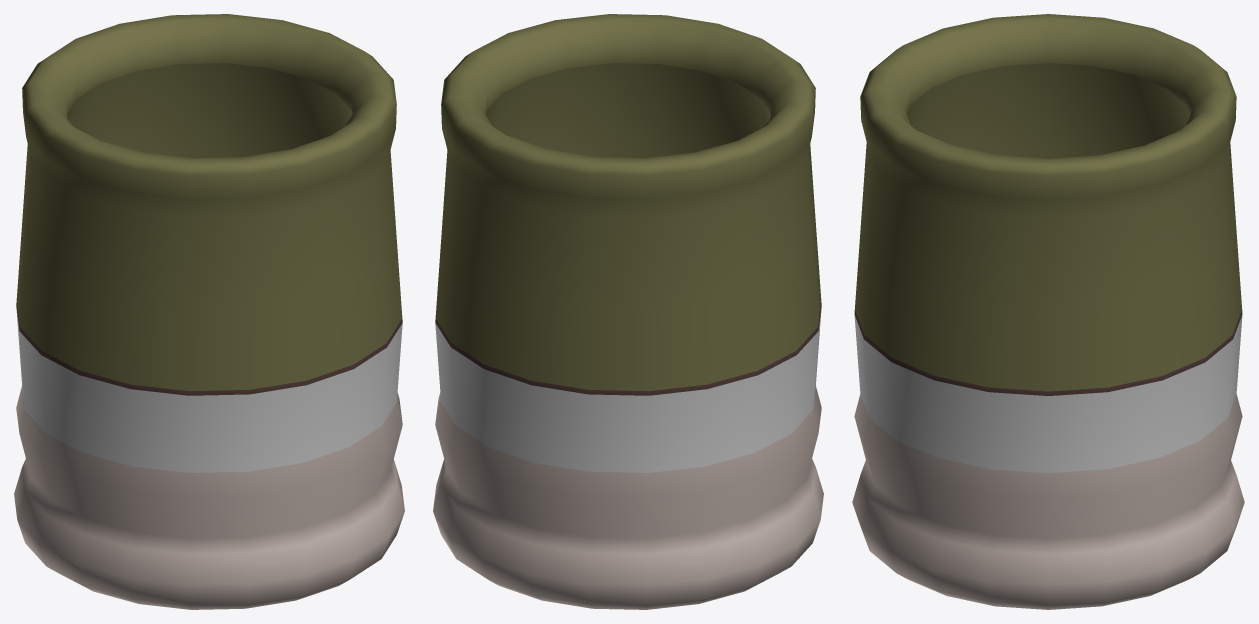
File: teacup.fbx
3 renders of one model, left to right at view 1: azimuth 30°, elevation 25°; view 2: azimuth 150°, elevation 25°; view 3: azimuth 270°, elevation 25°, orthographic.
Visible parts, largest first — view 1: tea_cup; view 2: tea_cup; view 3: tea_cup.
Boxes of the visible parts, x1=… form: tea_cup: x1=14, y1=14, x2=404, y2=609; tea_cup: x1=433, y1=14, x2=823, y2=609; tea_cup: x1=852, y1=14, x2=1244, y2=609.
Size of the model in its own units: 2.37 by 2.97 by 2.37.
